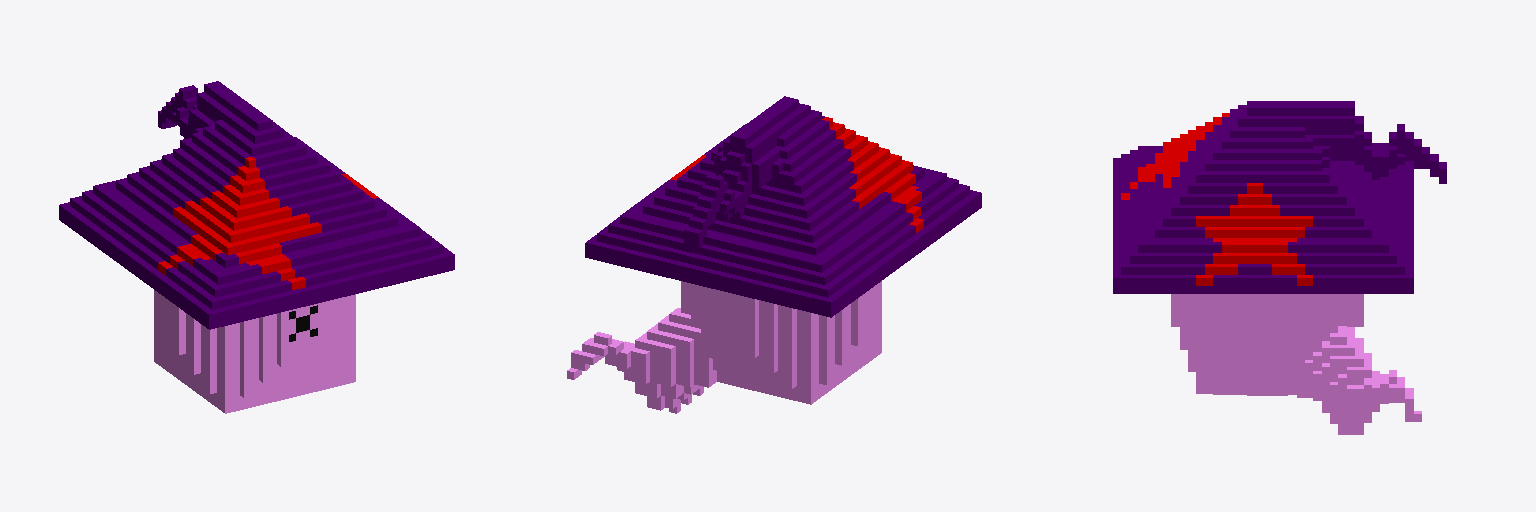
The picture shows the model from 3 angles: view 1: azimuth 30°, elevation 25°; view 2: azimuth 150°, elevation 25°; view 3: azimuth 270°, elevation 25°; orthographic projection.
Visible parts, largest first — view 1: Monster_fire; view 2: Monster_fire; view 3: Monster_fire.
Part boxes in pixels (x1,y1,x2,y2): Monster_fire: (59,81,454,413); Monster_fire: (567,96,981,413); Monster_fire: (1113,101,1446,434).
Size of the model in its own units: 36 by 39 by 40.
Materials: 1 (1 with a texture image).